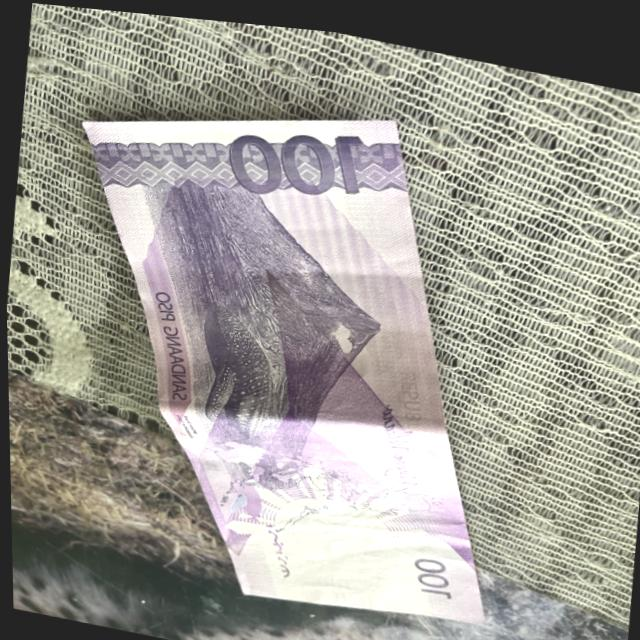see_through_mark: (254, 515, 293, 576)
value: (216, 96, 375, 218)
